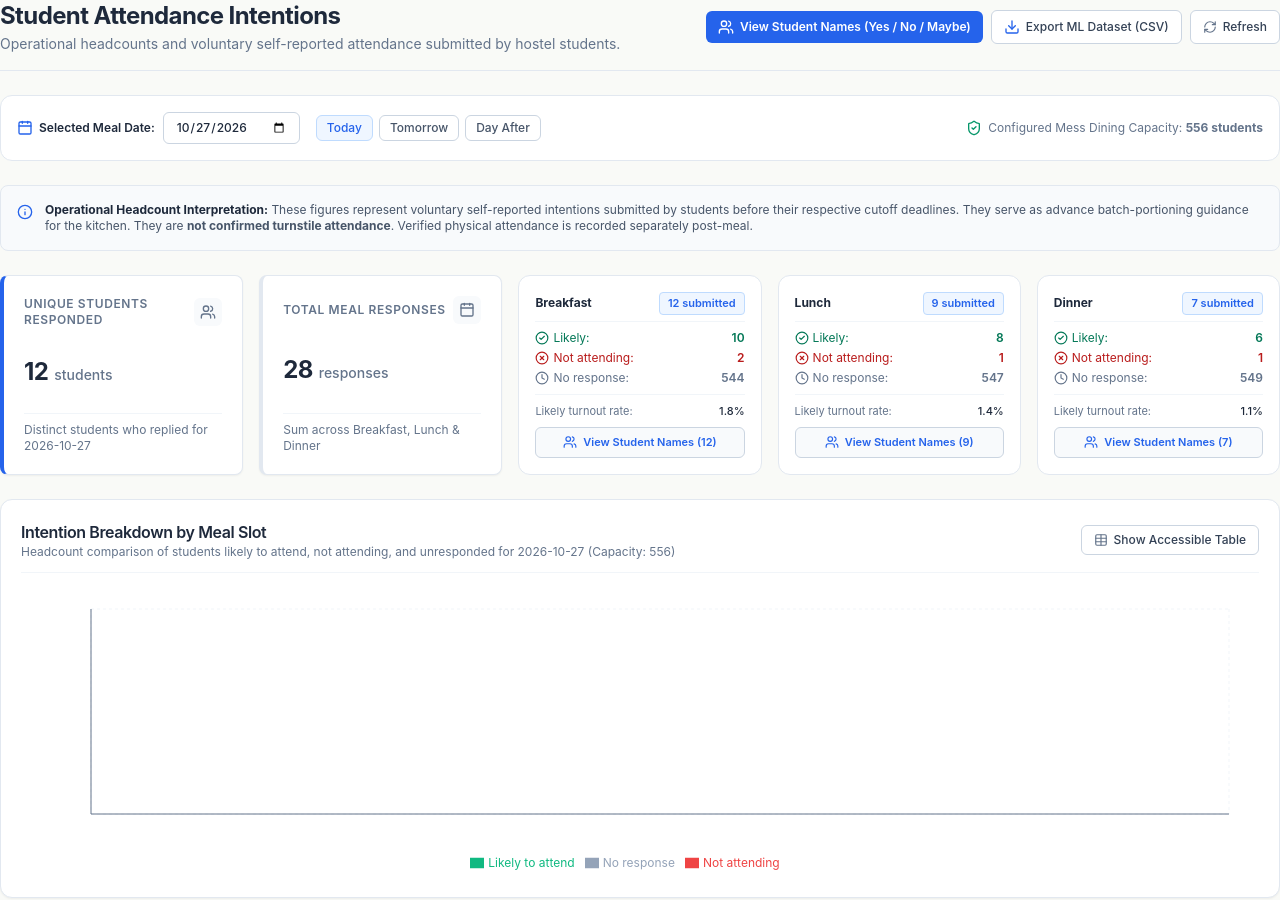
Test: ManagerIntentions page component › opens student names roster modal and displays categorized student intentions
Click the button "View Student Names (Yes / No / Maybe)".
click(844, 27)  # box top-left (706, 11), bottom-right (983, 43)
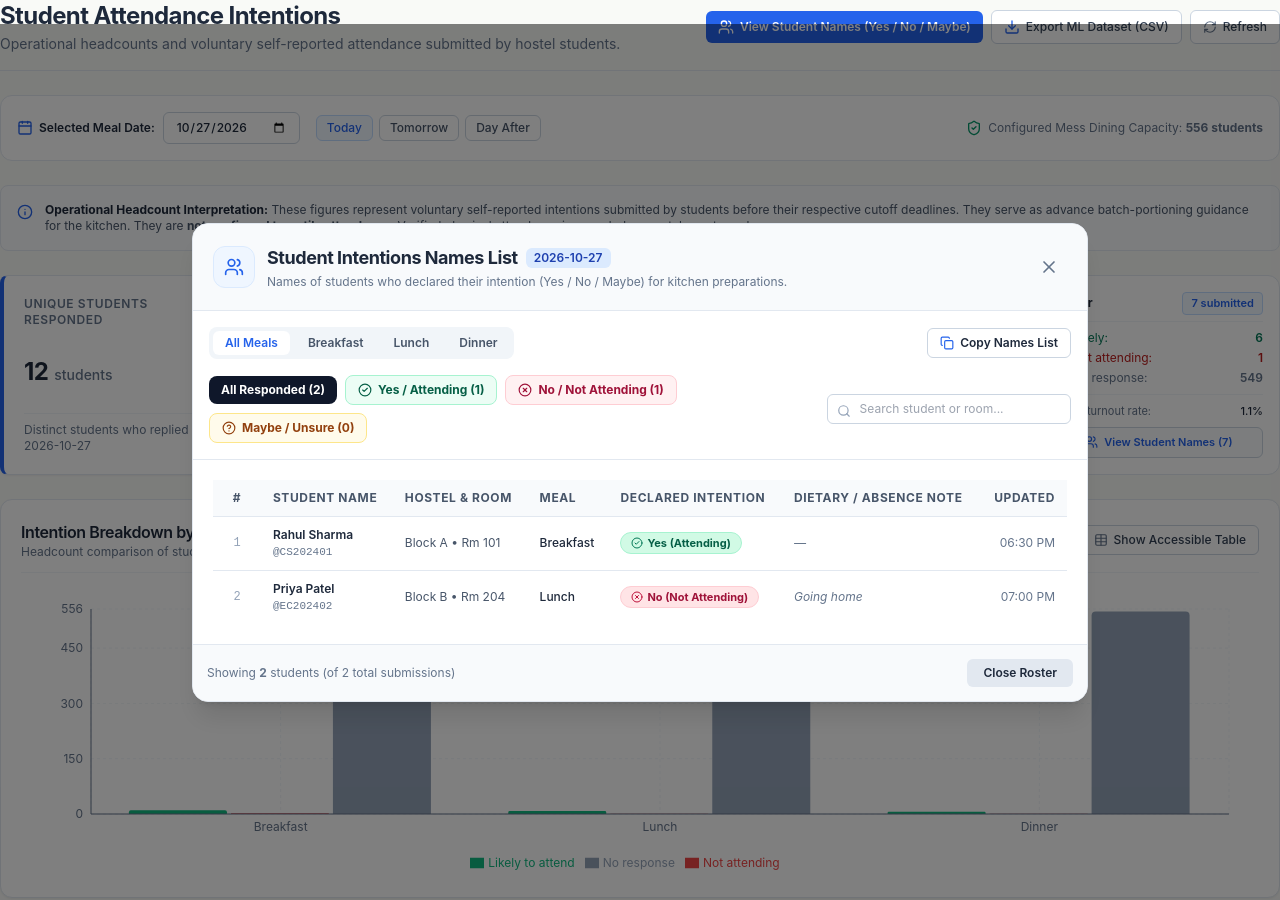
Expected: the heading "Student Intentions Names List" is shown, top-left (267, 244), bottom-right (518, 272)
Expected: the text "Yes / Attending (1)" is shown, top-left (378, 382), bottom-right (484, 398)
Expected: the text "No / Not Attending (1)" is shown, top-left (538, 382), bottom-right (664, 398)
